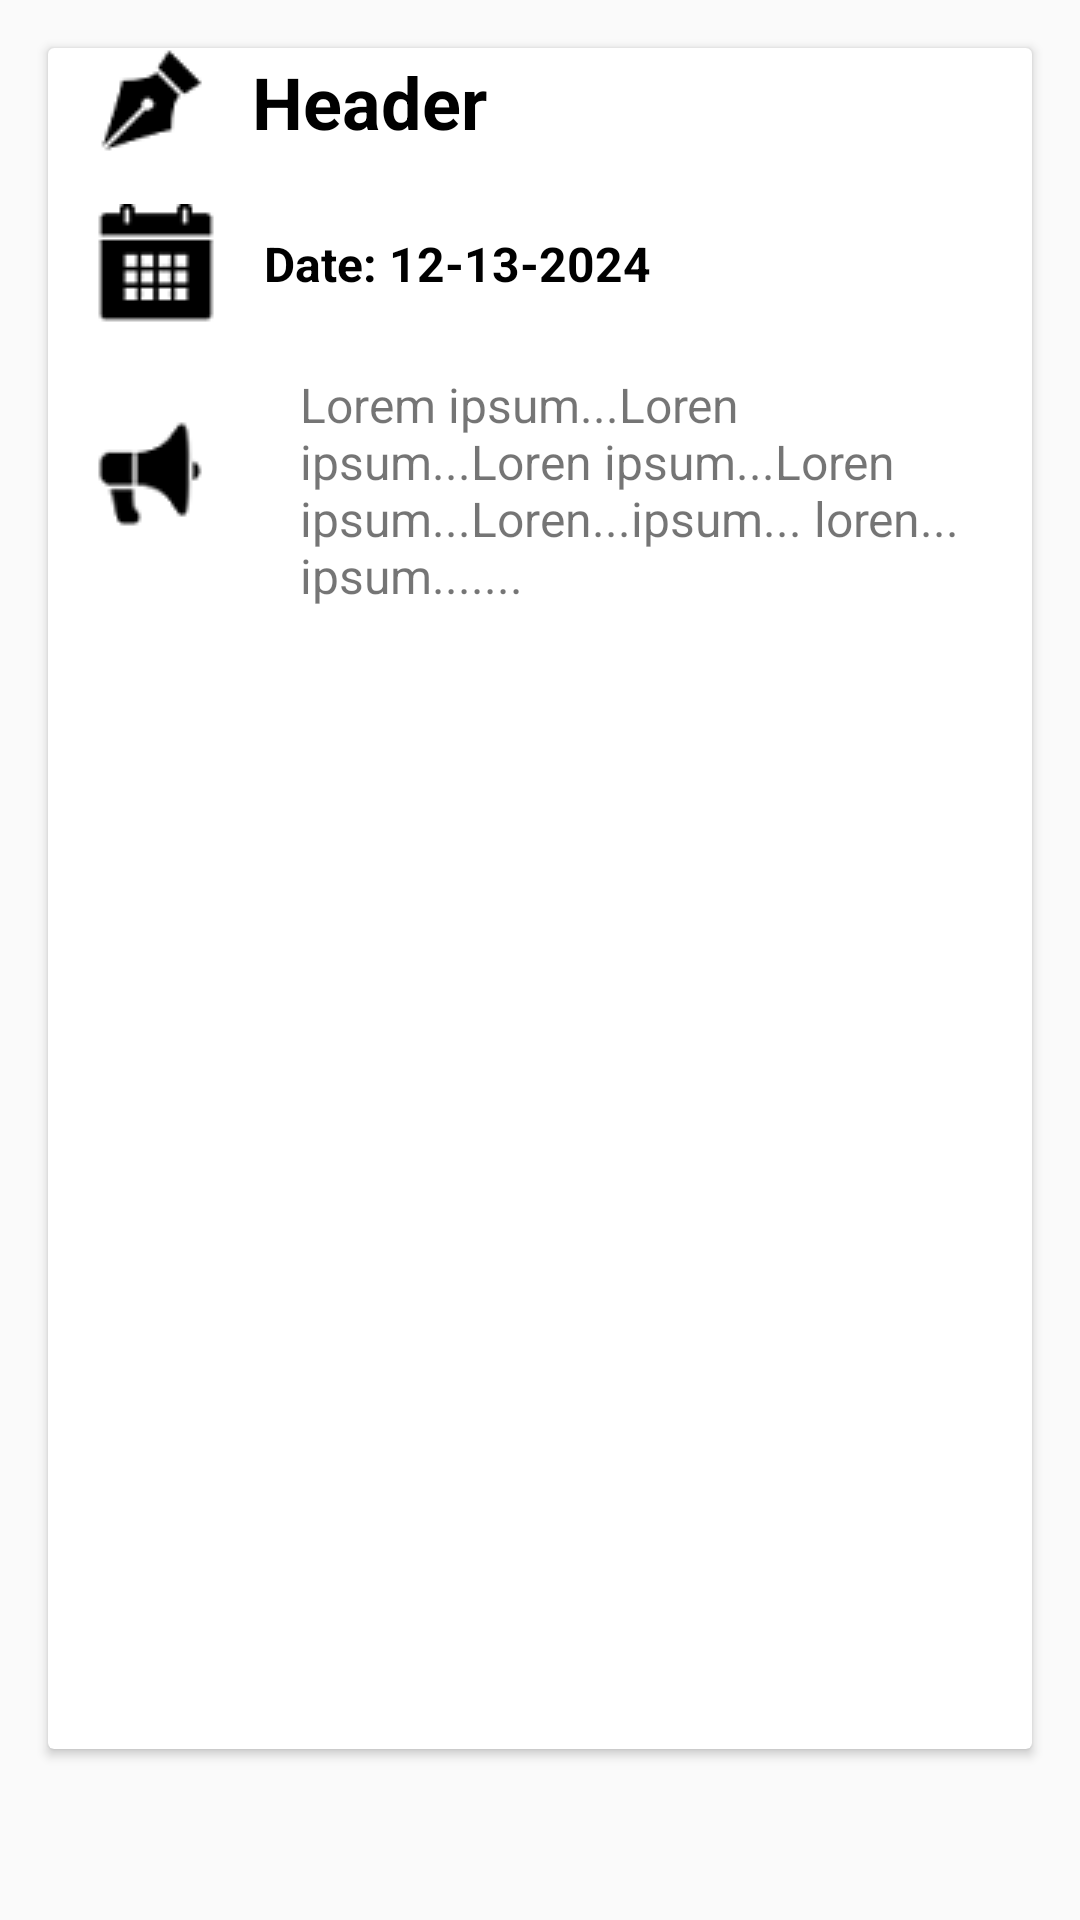

Icons on this 1080*1920 Android screen, each with the point to tap as (x,y):
Announcement: (150,474)
